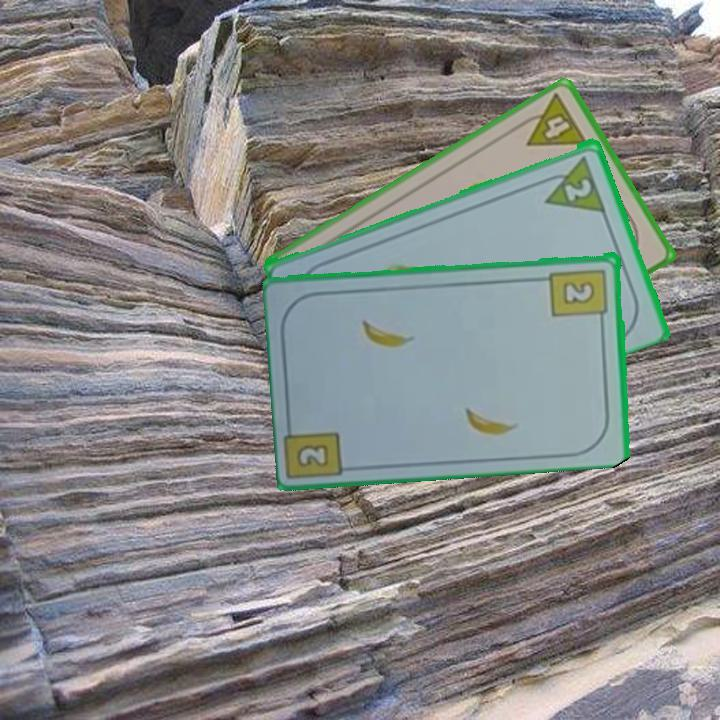2b: (547, 265, 611, 326), (293, 440, 332, 470)
2p: (535, 151, 608, 214)
4p: (512, 89, 591, 150)
